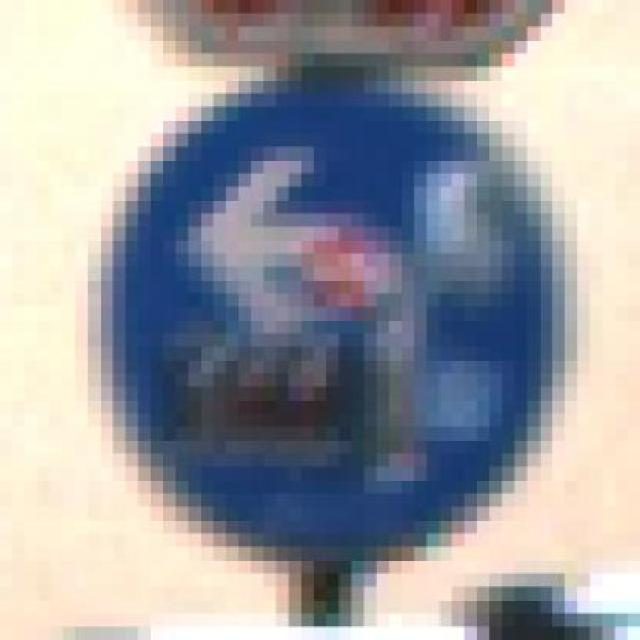Turn left ahead: (62, 53, 590, 587)
